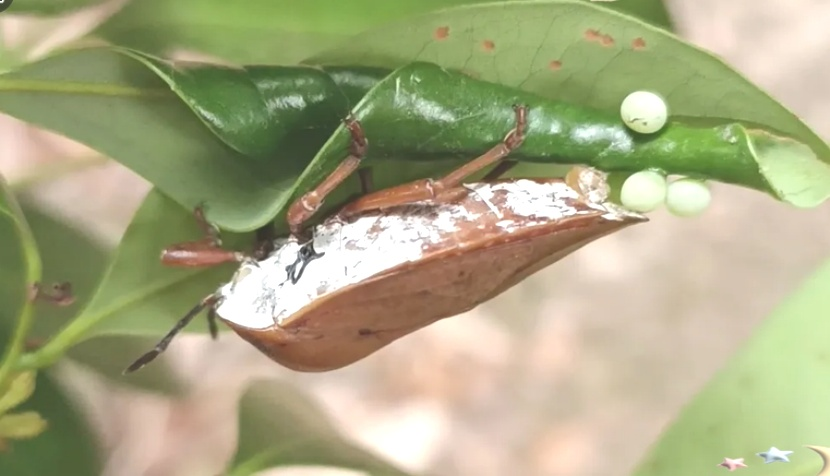Stink_Bug: (126, 88, 703, 370)
